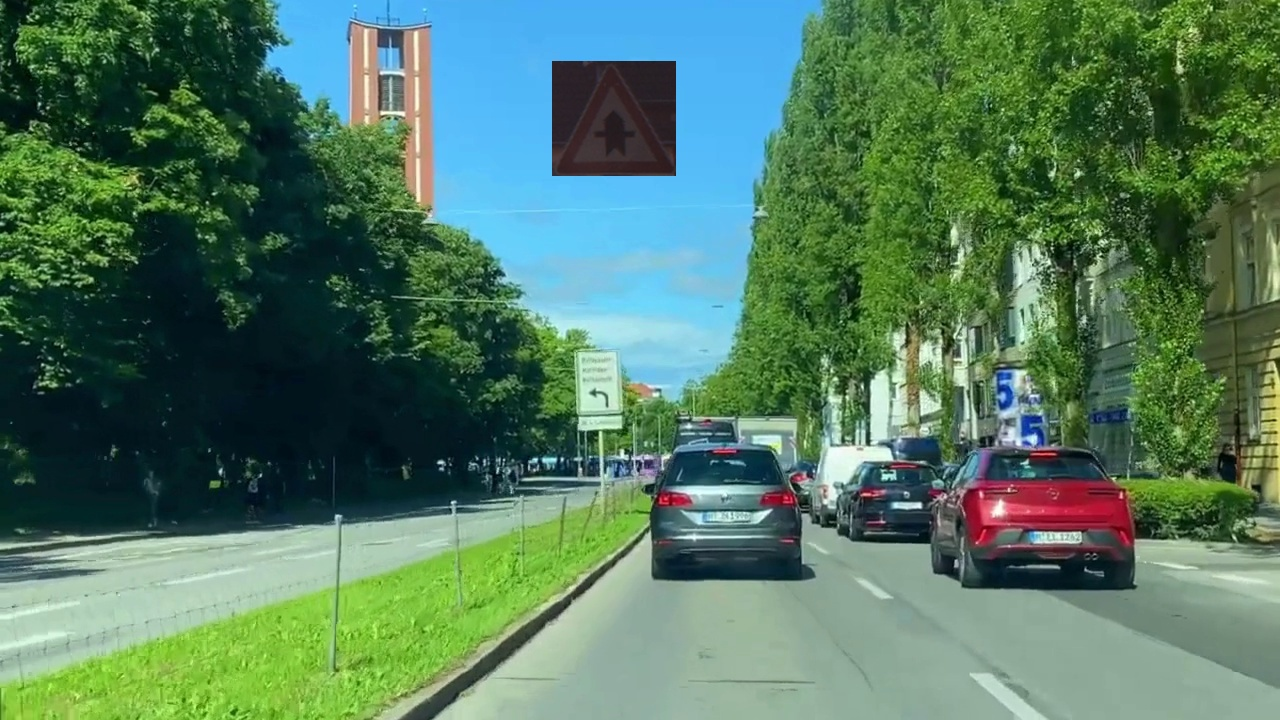Right-of-way: (552, 61, 676, 176)
